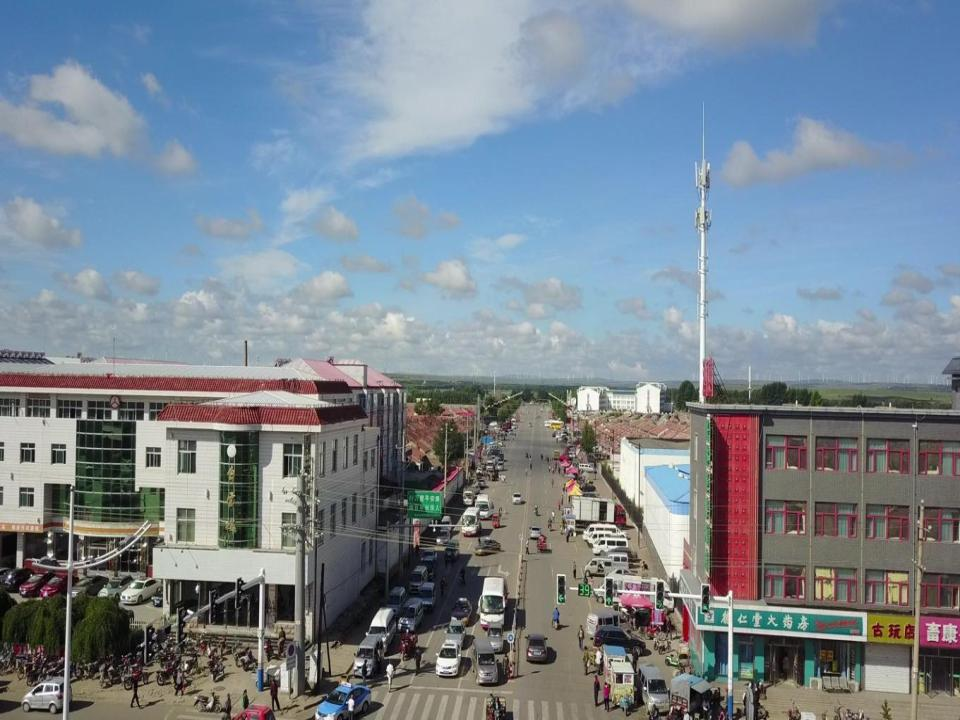bus: (479, 576, 506, 630), (460, 506, 481, 538), (474, 493, 493, 520)
car: (315, 681, 371, 720), (22, 680, 73, 714), (40, 572, 79, 602), (97, 573, 132, 606), (70, 574, 110, 602), (120, 577, 161, 604), (17, 571, 54, 598), (436, 639, 462, 677), (2, 568, 34, 593), (524, 632, 548, 662), (230, 704, 273, 720), (152, 581, 177, 607), (444, 620, 466, 648), (491, 578, 509, 610), (450, 596, 472, 622), (473, 536, 501, 556), (486, 622, 504, 653), (606, 546, 636, 561), (419, 556, 434, 580), (605, 526, 627, 540), (420, 548, 436, 566), (437, 528, 449, 545), (528, 526, 541, 538), (511, 492, 521, 503)
truck: (608, 573, 676, 615), (571, 496, 625, 531), (462, 486, 474, 505)
van: (637, 664, 669, 716), (353, 632, 383, 680), (366, 606, 396, 652), (471, 636, 499, 685), (585, 611, 631, 638), (397, 597, 423, 633), (385, 586, 406, 620), (416, 580, 437, 612), (592, 538, 628, 556), (582, 557, 614, 577), (582, 524, 617, 540), (409, 565, 427, 595), (603, 552, 629, 572), (587, 530, 612, 548), (444, 539, 460, 561), (440, 514, 452, 534)
